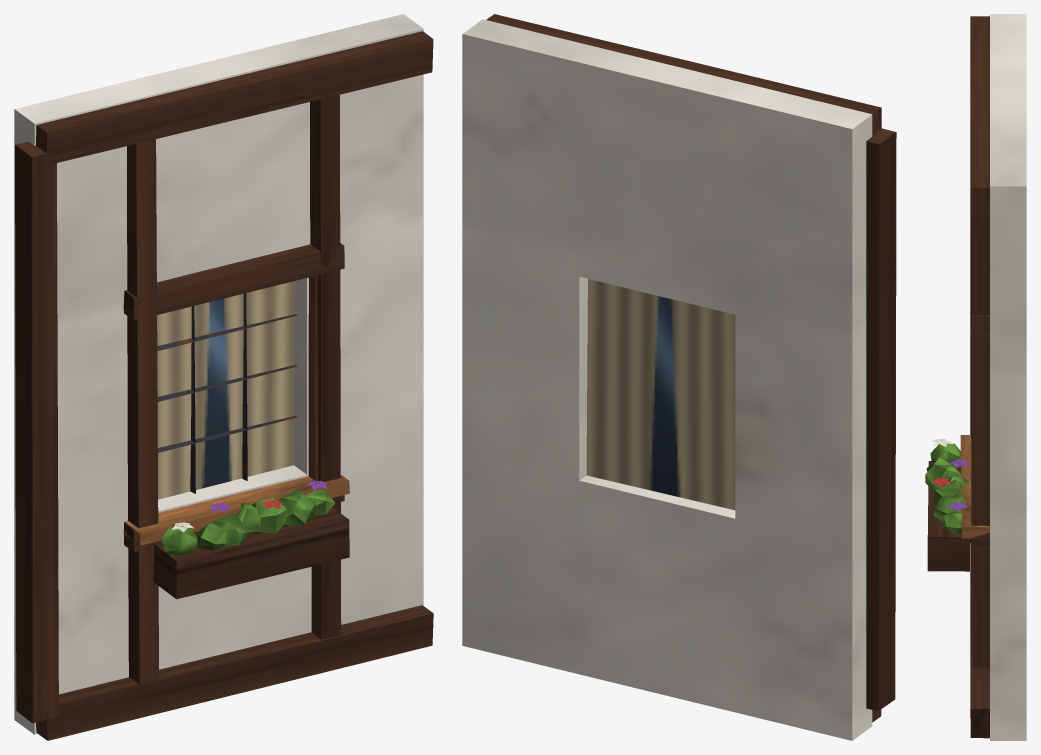
The model's file is SM_Mod_Wall_Timber_Window_LOD2.gltf.
3 views of the same model, side by side, from view 1: azimuth 30°, elevation 25°; view 2: azimuth 150°, elevation 25°; view 3: azimuth 270°, elevation 25° (orthographic). The views are drawn at different scales.
Visible parts, largest first — view 1: SM_Mod_Wall_Timber_Window_LOD2; view 2: SM_Mod_Wall_Timber_Window_LOD2; view 3: SM_Mod_Wall_Timber_Window_LOD2.
Boxes of the visible parts, x1,y1,x2,y2 form: SM_Mod_Wall_Timber_Window_LOD2: [14, 14, 433, 740]; SM_Mod_Wall_Timber_Window_LOD2: [462, 14, 896, 740]; SM_Mod_Wall_Timber_Window_LOD2: [925, 14, 1026, 740].
Size of the model in its own units: 2.07 by 3 by 0.4976.
1 material, 1 textured.
